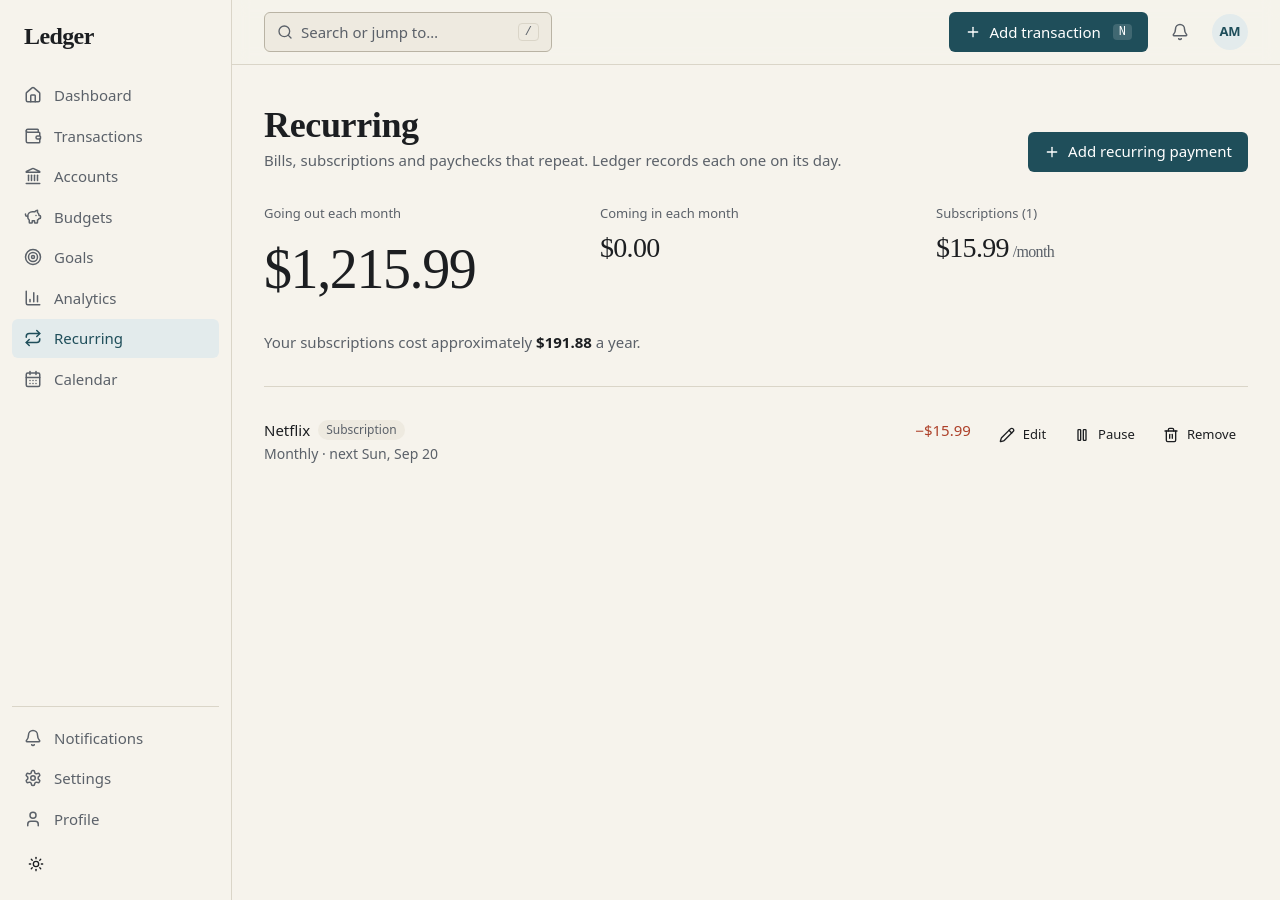
it: recurring page › pauses a payment
Click the button with aria-label "Pause Netflix".
click(1104, 434)  # box [1062, 418, 1147, 450]
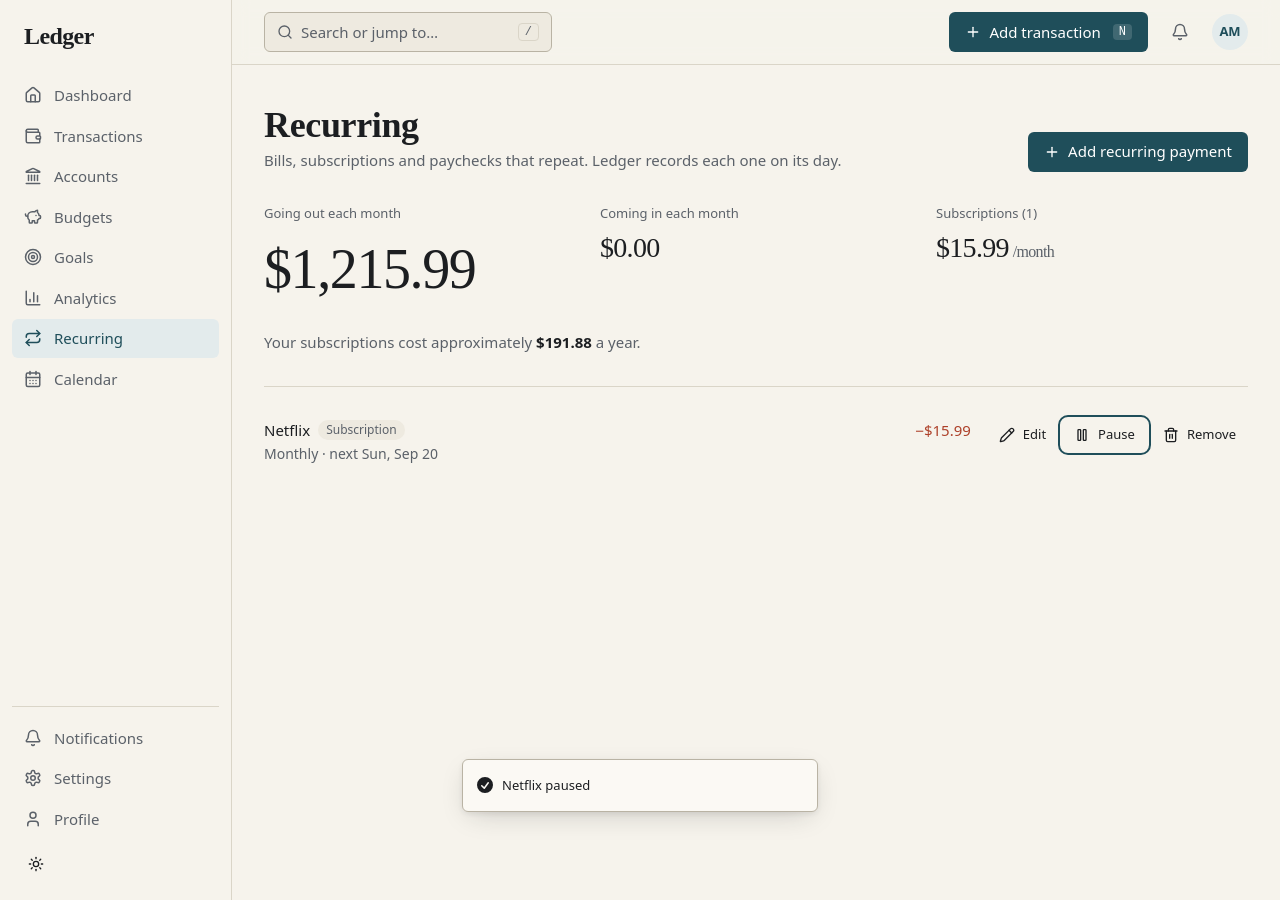
Expected: the text "Netflix paused" is shown, [502, 776, 590, 795]
